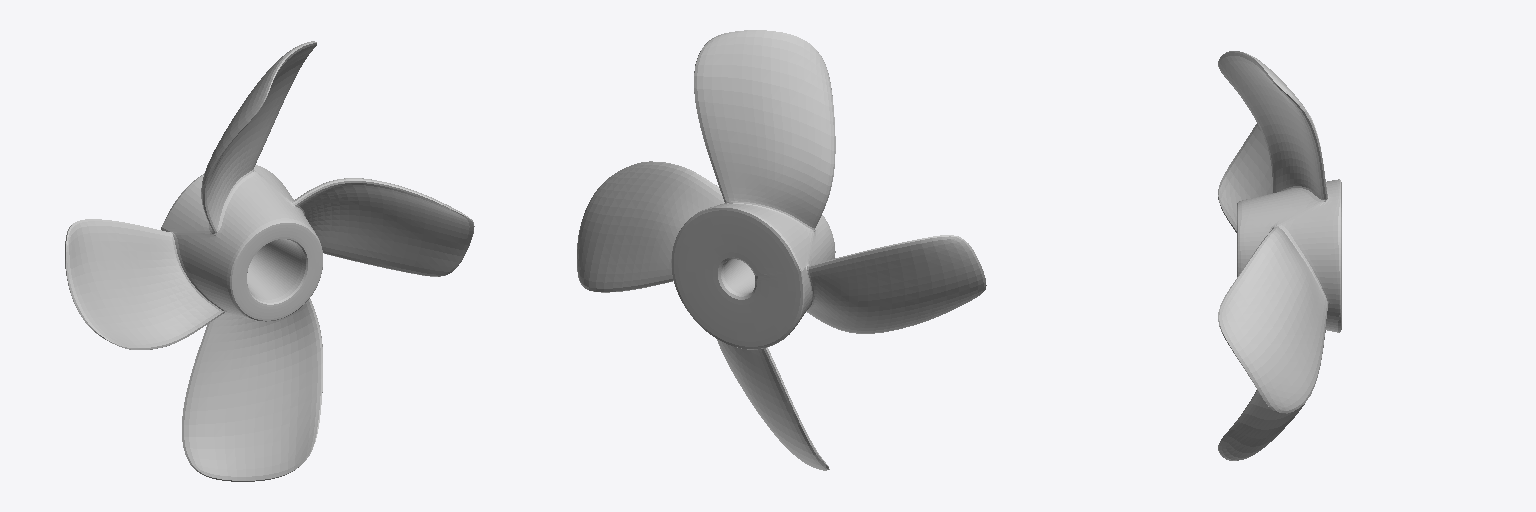
The model's file is prop poly.obj.
3 views of the same model, side by side, from view 1: azimuth 30°, elevation 25°; view 2: azimuth 150°, elevation 25°; view 3: azimuth 270°, elevation 25° (orthographic).
Visible parts, largest first — view 1: pPipe5; view 2: pPipe5; view 3: pPipe5.
Part boxes in pixels (bbox=[...]): pPipe5: bbox=[65, 41, 474, 481]; pPipe5: bbox=[577, 30, 986, 470]; pPipe5: bbox=[1218, 51, 1341, 460].
Size of the model in its own units: 31.91 by 31.97 by 8.56.